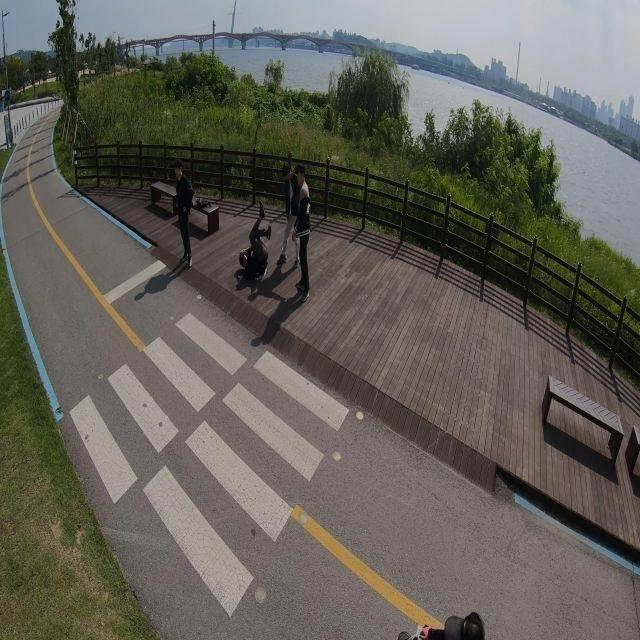fight: (236, 162, 310, 300)
non-fight: (282, 164, 311, 300), (172, 163, 196, 268)
